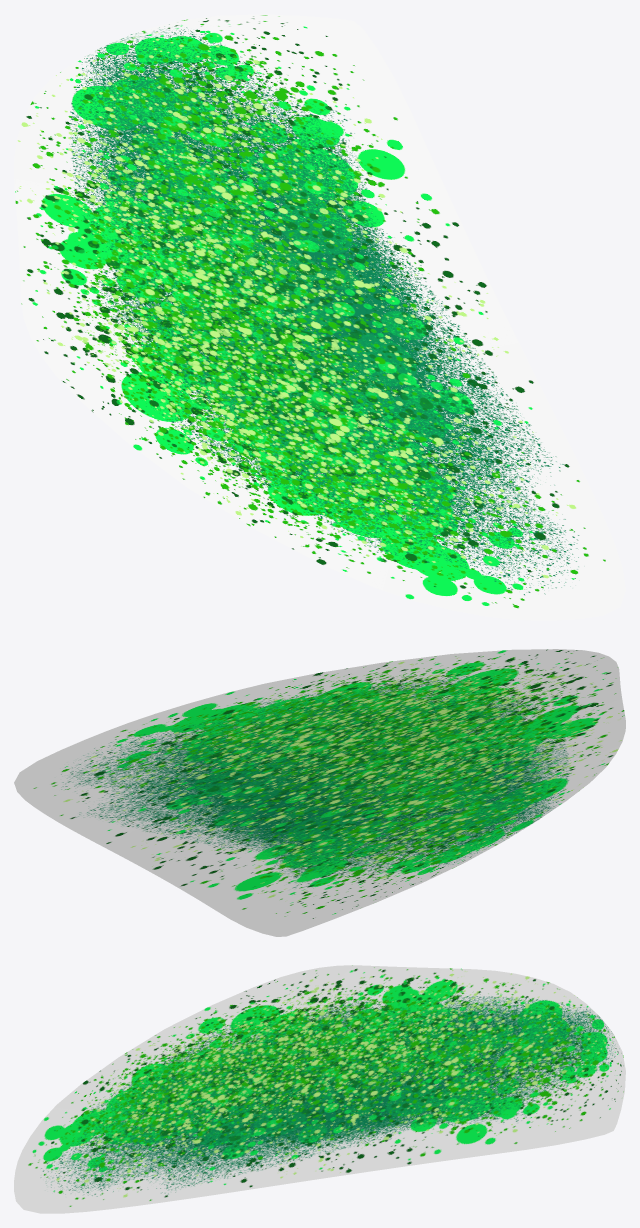
The model's file is Duckweed.fbx.
3 views of the same model, one above another, from view 1: azimuth 30°, elevation 25°; view 2: azimuth 210°, elevation 25°; view 3: azimuth 270°, elevation 25° (orthographic). The views are drawn at different scales.
Parts seen in each view (by area): view 1: Plane.012; view 2: Plane.012; view 3: Plane.012.
Part boxes in pixels (x1,y1,x2,y2): Plane.012: [14, 14, 625, 620]; Plane.012: [14, 649, 625, 936]; Plane.012: [14, 965, 625, 1213].
Bounding box in the file's own units: 0.9922 × 0.4412 × 1.45.
